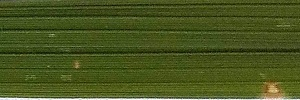RiceBlast: (261, 79, 285, 100)
